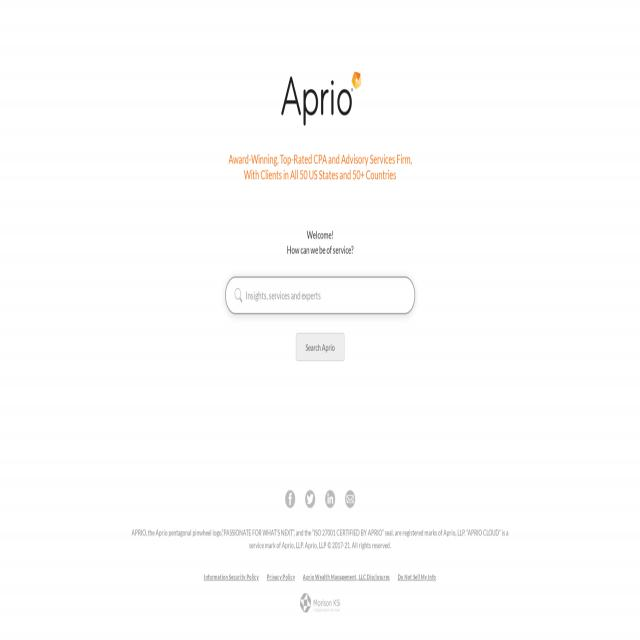button: (296, 333, 344, 361), (300, 593, 340, 612), (285, 490, 295, 508), (305, 490, 315, 508), (325, 490, 335, 508), (345, 490, 355, 508), (235, 288, 242, 303)
field: (226, 278, 414, 314)
